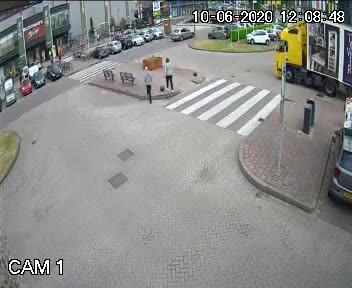car: (270, 7, 350, 104), (165, 26, 196, 43)
